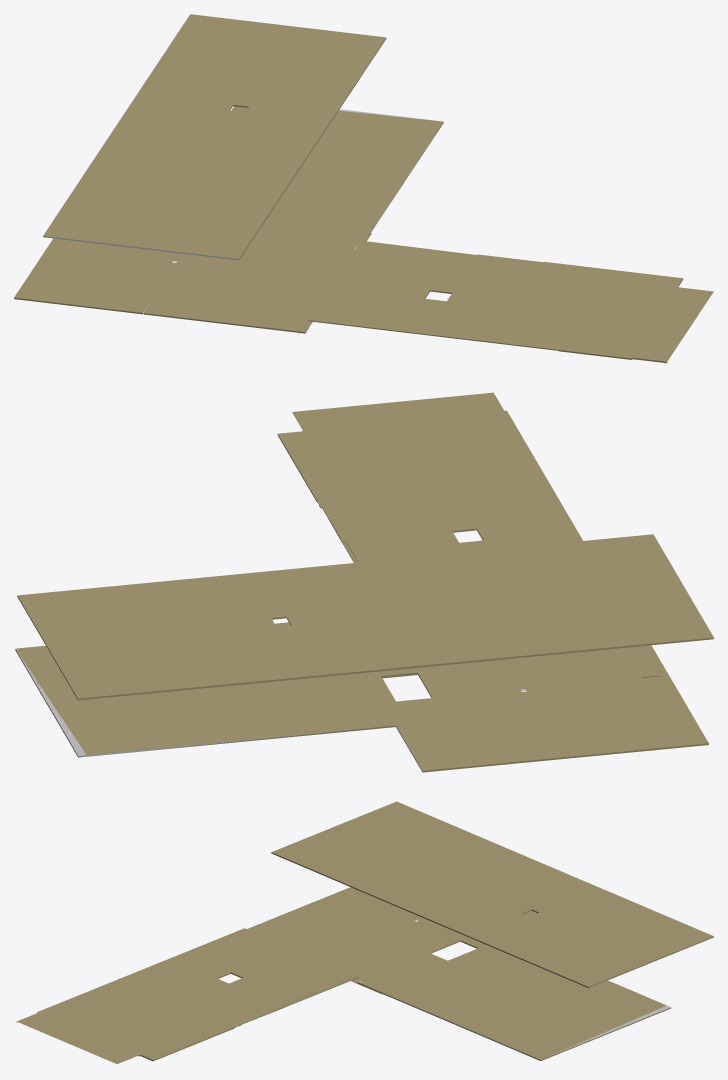
The model's file is podlaha_pud.gltf.
3 views of the same model, one above another, from view 1: azimuth 30°, elevation 25°; view 2: azimuth 150°, elevation 25°; view 3: azimuth 270°, elevation 25° (orthographic). The views are drawn at different scales.
Visible parts, largest first — view 1: root; view 2: root; view 3: root.
Boxes of the visible parts, x1,y1,x2,y2 form: root: (14,14,713,363); root: (15,392,713,772); root: (15,801,713,1064).
Bounding box in the file's own units: 19.31 × 2.77 × 26.33.
8 materials, 6 textured.
